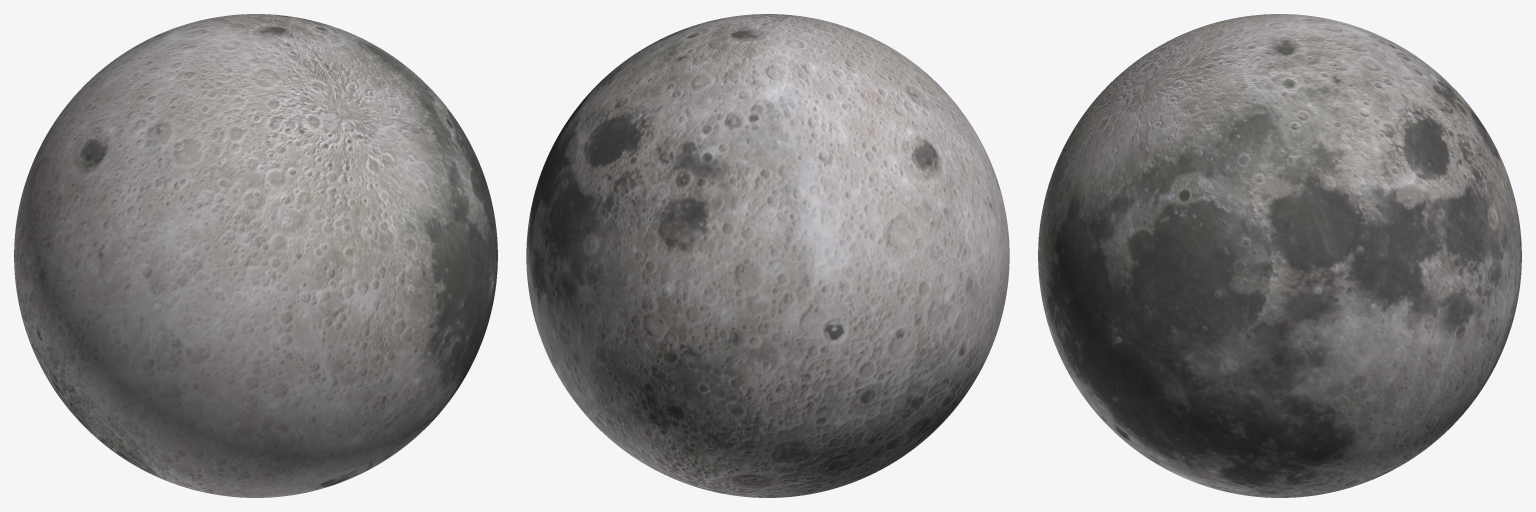
File: moon.fbx
The picture shows the model from 3 angles, left to right: view 1: azimuth 30°, elevation 25°; view 2: azimuth 150°, elevation 25°; view 3: azimuth 270°, elevation 25°; orthographic projection.
Visible parts, largest first — view 1: Sphere_Material.001_0.003, Sphere_Material.001_0.002, Sphere, Sphere_Material.001_0.001, Sphere_Material.001_0.004; view 2: Sphere, Sphere_Material.001_0.001, Sphere_Material.001_0.002, Sphere_Material.001_0.003; view 3: Sphere_Material.001_0.002, Sphere_Material.001_0.001, Sphere_Material.001_0.003, Sphere_Material.001_0.004, Sphere.
Part boxes in pixels (bbox=[...]): Sphere_Material.001_0.003: bbox=[52, 68, 487, 497]; Sphere_Material.001_0.002: bbox=[74, 17, 497, 473]; Sphere: bbox=[14, 61, 340, 392]; Sphere_Material.001_0.001: bbox=[64, 14, 341, 112]; Sphere_Material.001_0.004: bbox=[315, 35, 474, 459]; Sphere: bbox=[545, 19, 998, 495]; Sphere_Material.001_0.001: bbox=[526, 15, 860, 497]; Sphere_Material.001_0.002: bbox=[549, 14, 1009, 494]; Sphere_Material.001_0.003: bbox=[729, 51, 1009, 494]; Sphere_Material.001_0.002: bbox=[1040, 35, 1439, 454]; Sphere_Material.001_0.001: bbox=[1152, 15, 1509, 497]; Sphere_Material.001_0.003: bbox=[1038, 54, 1336, 496]; Sphere_Material.001_0.004: bbox=[1074, 60, 1268, 453]; Sphere: bbox=[1144, 14, 1521, 398].
Bounding box in the file's own units: 200 × 200 × 200.
